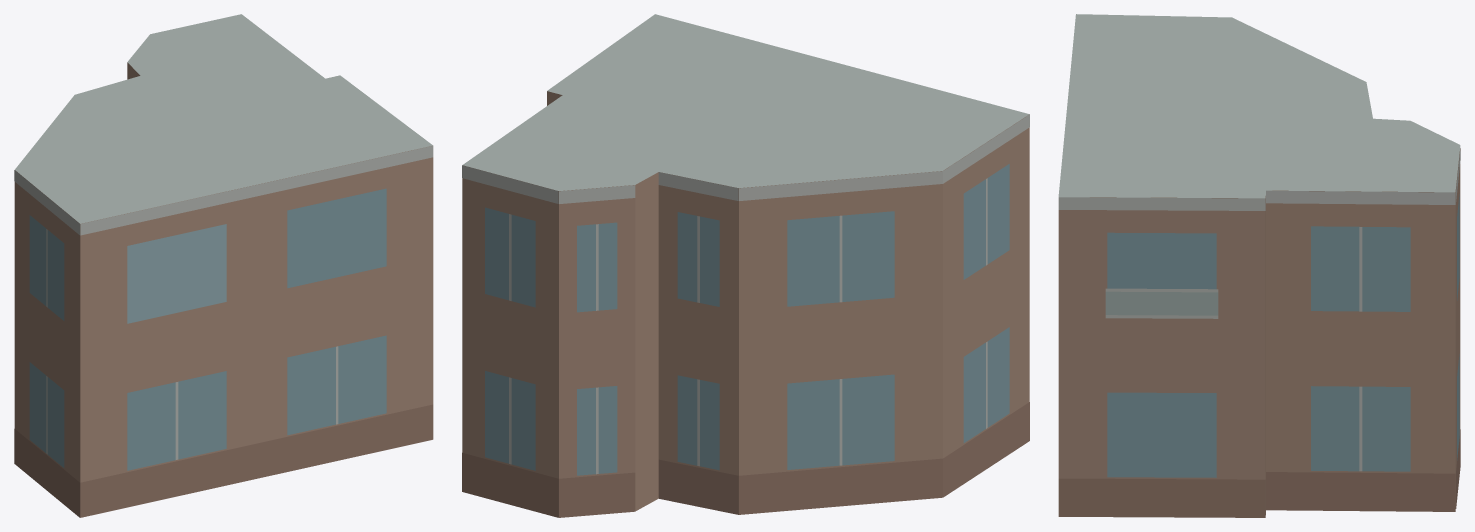
File: survey-upis-32960962.glb
3 renders of one model, left to right at view 1: azimuth 30°, elevation 25°; view 2: azimuth 150°, elevation 25°; view 3: azimuth 270°, elevation 25°, orthographic. The views are drawn at different scales.
Parts seen in each view (by area): view 1: survey-upis-32960962.tmp; view 2: survey-upis-32960962.tmp; view 3: survey-upis-32960962.tmp.
Part boxes in pixels (x1,y1,x2,y2): survey-upis-32960962.tmp: (14, 14, 433, 517); survey-upis-32960962.tmp: (462, 14, 1029, 517); survey-upis-32960962.tmp: (1058, 14, 1460, 517).
Bounding box in the file's own units: 7.58 × 6.1 × 6.97.
